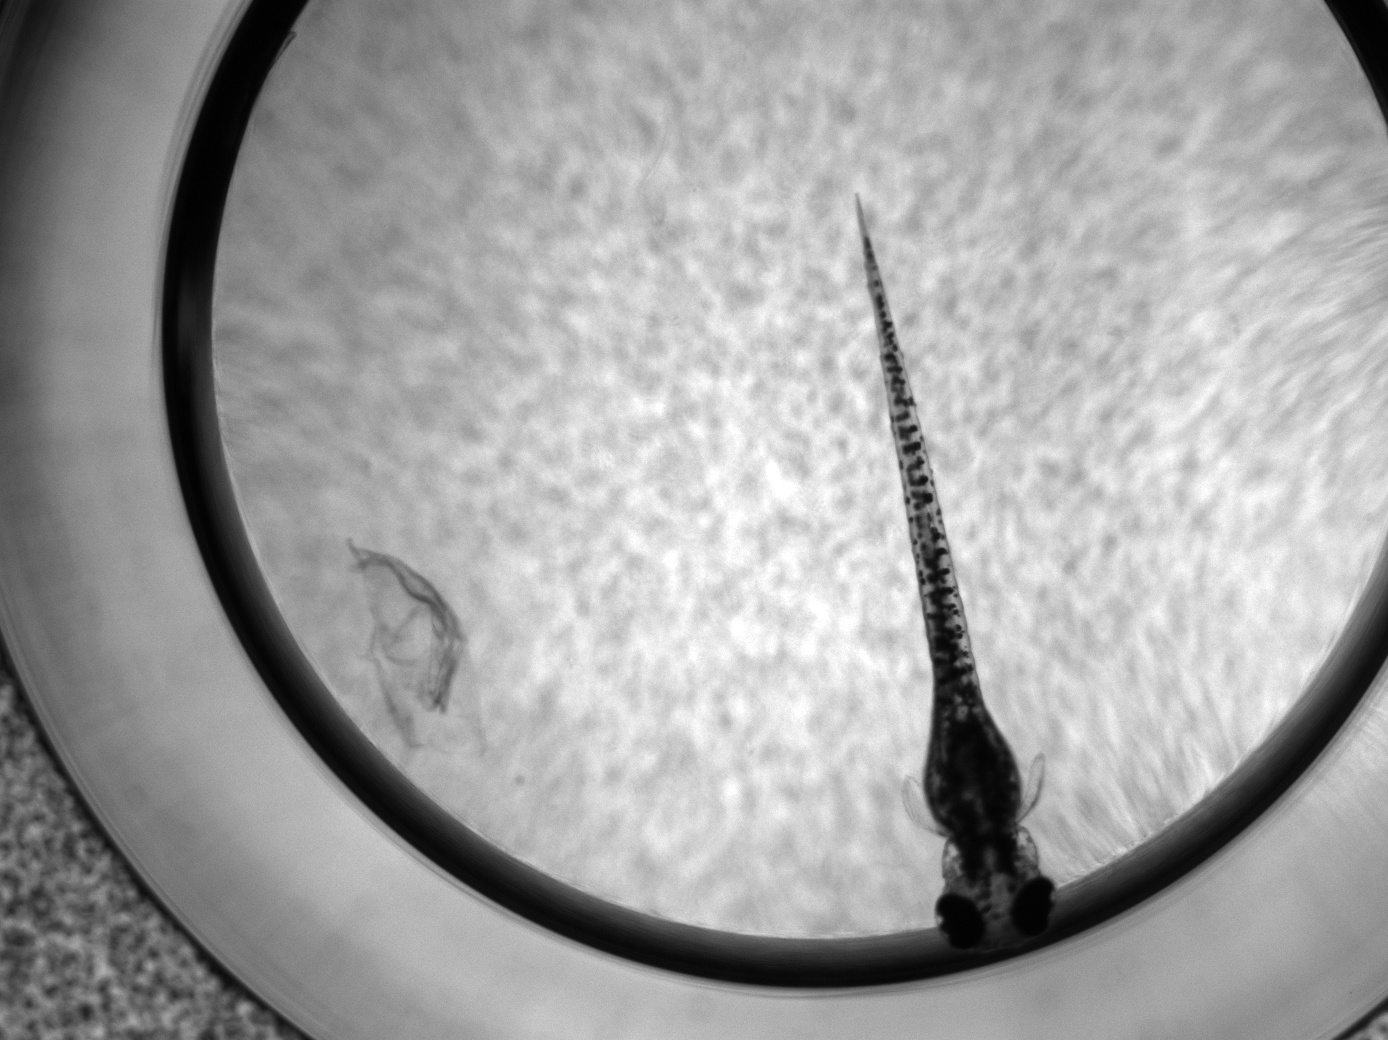debris: (334, 532, 493, 763)
embryo: (851, 186, 1056, 956)
eye: (935, 893, 986, 952), (1008, 877, 1055, 938)
yolksac: (921, 735, 1027, 834)
